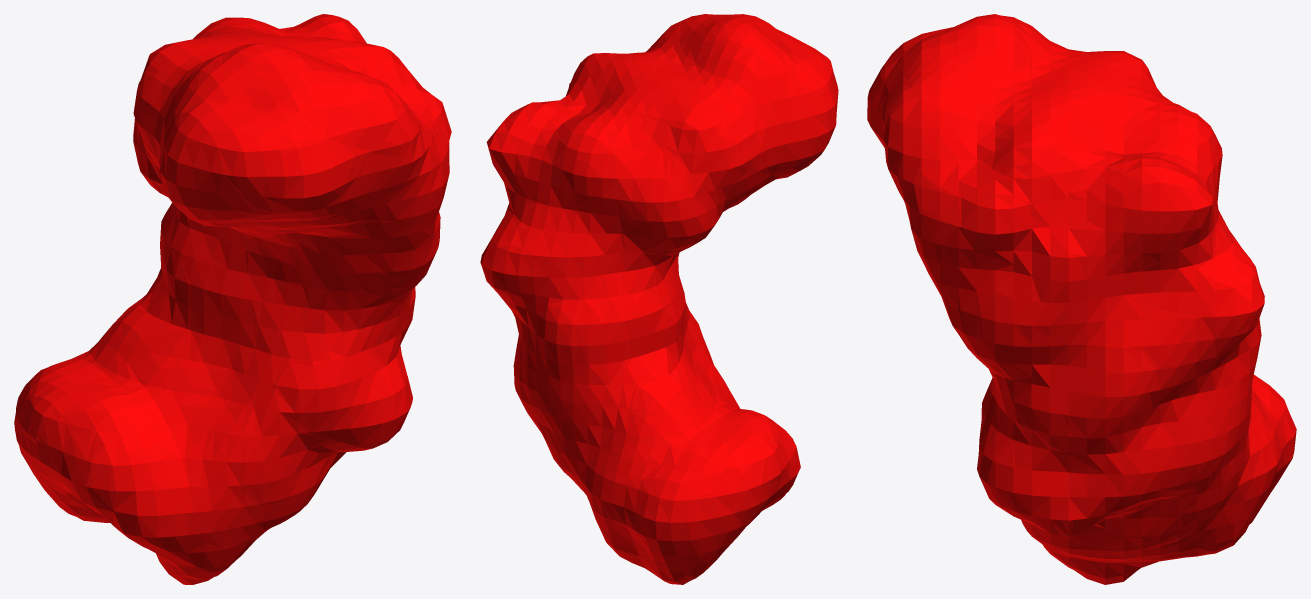
The model's file is motA_coarse.dae.
The picture shows the model from 3 angles, left to right: view 1: azimuth 30°, elevation 25°; view 2: azimuth 150°, elevation 25°; view 3: azimuth 270°, elevation 25°; orthographic projection. The views are drawn at different scales.
Parts seen in each view (by area): view 1: motA; view 2: motA; view 3: motA.
Boxes of the visible parts, left/top/right/bottom form: motA: left=14, top=14, right=451, bottom=584; motA: left=480, top=14, right=838, bottom=584; motA: left=867, top=14, right=1296, bottom=584.
Size of the model in its own units: 44.93 by 73.36 by 50.29.
